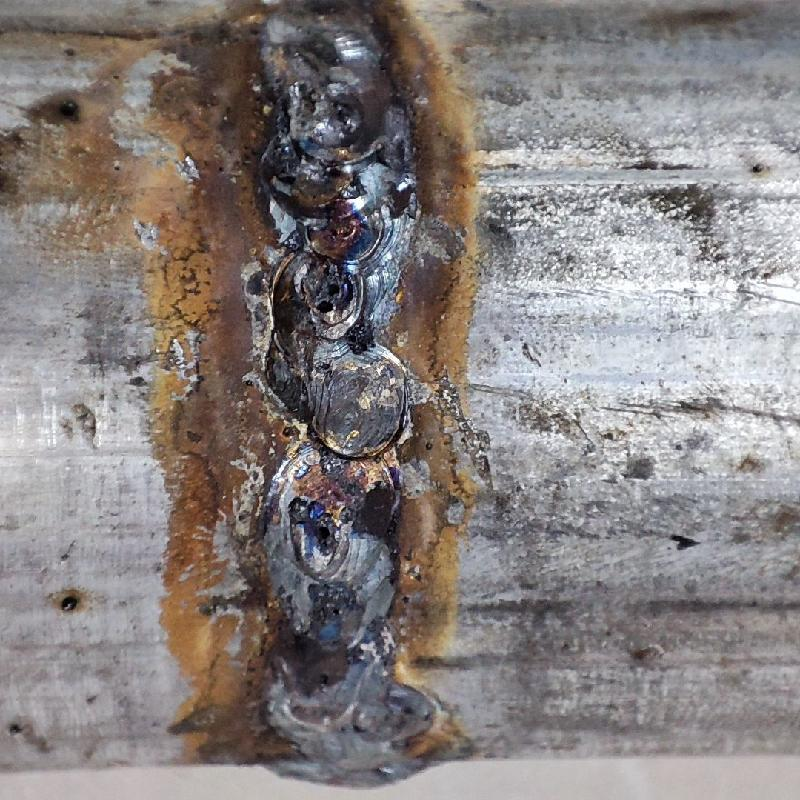Surface_pores: (298, 269, 358, 325), (304, 509, 349, 569)
crater: (272, 80, 408, 335)
